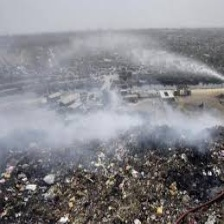smoke: (4, 36, 224, 173)
